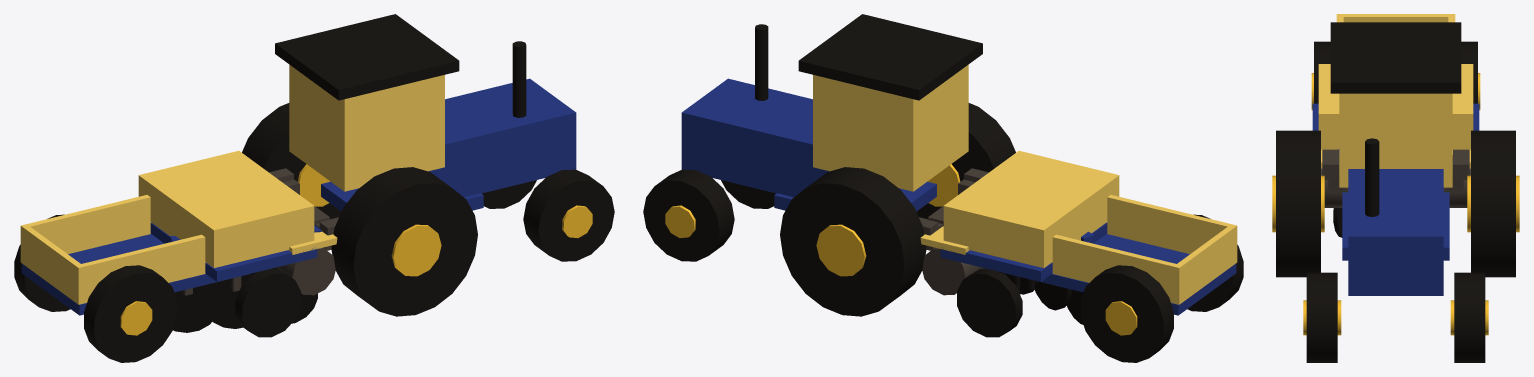
Rendered from tractor.glb.
The picture shows the model from 3 angles, left to right: view 1: azimuth 30°, elevation 25°; view 2: azimuth 150°, elevation 25°; view 3: azimuth 270°, elevation 25°; orthographic projection. The views are drawn at different scales.
Parts seen in each view (by area): view 1: tyre (×6), cab, hopper, hood, board (×3), roof, hub (×4), wheel, disc (×2), bed, frame, drum (+3 smaller); view 2: tyre (×6), cab, hopper, hood, board (×3), roof, hub (×4), wheel, bed, frame, drum, exhaust (+3 smaller); view 3: tyre (×6), hood, roof, cab, hopper, hub (×4), arm (×4), exhaust, board, chassis, drum, frame (+1 smaller).
Part boxes in pixels (box(x1,y1,x2,y2)): tyre (×6): box(14, 103, 614, 362); cab: box(289, 64, 444, 191); hopper: box(138, 150, 314, 267); hood: box(428, 78, 576, 197); board (×3): box(20, 195, 205, 304); roof: box(275, 14, 459, 100); hub (×4): box(120, 164, 592, 335); wheel: box(235, 269, 300, 337); disc (×2): box(173, 273, 251, 332); bed: box(21, 234, 249, 315); frame: box(150, 222, 317, 281); drum: box(276, 247, 335, 295); tyre (×6): box(643, 103, 1243, 362); cab: box(813, 64, 968, 191); hopper: box(943, 150, 1119, 267); hood: box(681, 78, 829, 197); board (×3): box(1052, 195, 1237, 304); roof: box(798, 14, 982, 100); hub (×4): box(665, 164, 1137, 335); wheel: box(957, 269, 1022, 337); bed: box(1008, 234, 1236, 315); frame: box(940, 222, 1107, 281); drum: box(922, 247, 986, 295); exhaust: box(755, 24, 768, 100); tyre (×6): box(1276, 41, 1515, 362); hood: box(1348, 169, 1443, 295); roof: box(1330, 22, 1461, 93); cab: box(1339, 93, 1452, 187); hopper: box(1318, 64, 1473, 149); hub (×4): box(1272, 175, 1519, 335); arm (×4): box(1322, 149, 1469, 190); exhaust: box(1365, 138, 1379, 216); board: box(1336, 14, 1455, 22); chassis: box(1342, 192, 1449, 260); drum: box(1321, 168, 1470, 207); frame: box(1312, 103, 1479, 130).
Size of the model in its own units: 5.19 by 2.19 by 2.08.
